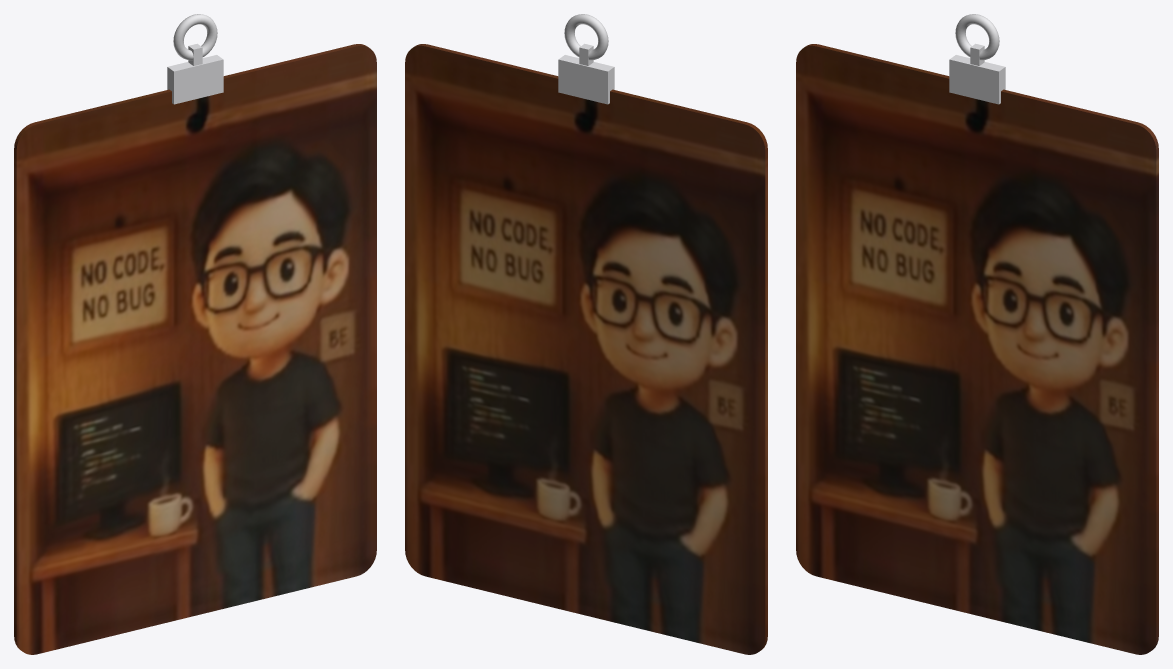
File: card.glb
3 renders of one model, left to right at view 1: azimuth 30°, elevation 25°; view 2: azimuth 150°, elevation 25°; view 3: azimuth 330°, elevation 25°, orthographic.
Visible parts, largest first — view 1: card, clip, clamp; view 2: card, clip, clamp; view 3: card, clip, clamp.
Part boxes in pixels (box(x1,y1,x2,y2)): card: box(14, 44, 376, 654); clip: box(167, 55, 223, 104); clamp: box(173, 14, 217, 65); card: box(405, 44, 767, 654); clip: box(558, 55, 614, 104); clamp: box(564, 14, 608, 65); card: box(796, 44, 1158, 654); clip: box(949, 55, 1005, 104); clamp: box(955, 14, 999, 65).
Bounding box in the file's own units: 1.6 × 2.54 × 0.05.
2 materials, 1 textured.
